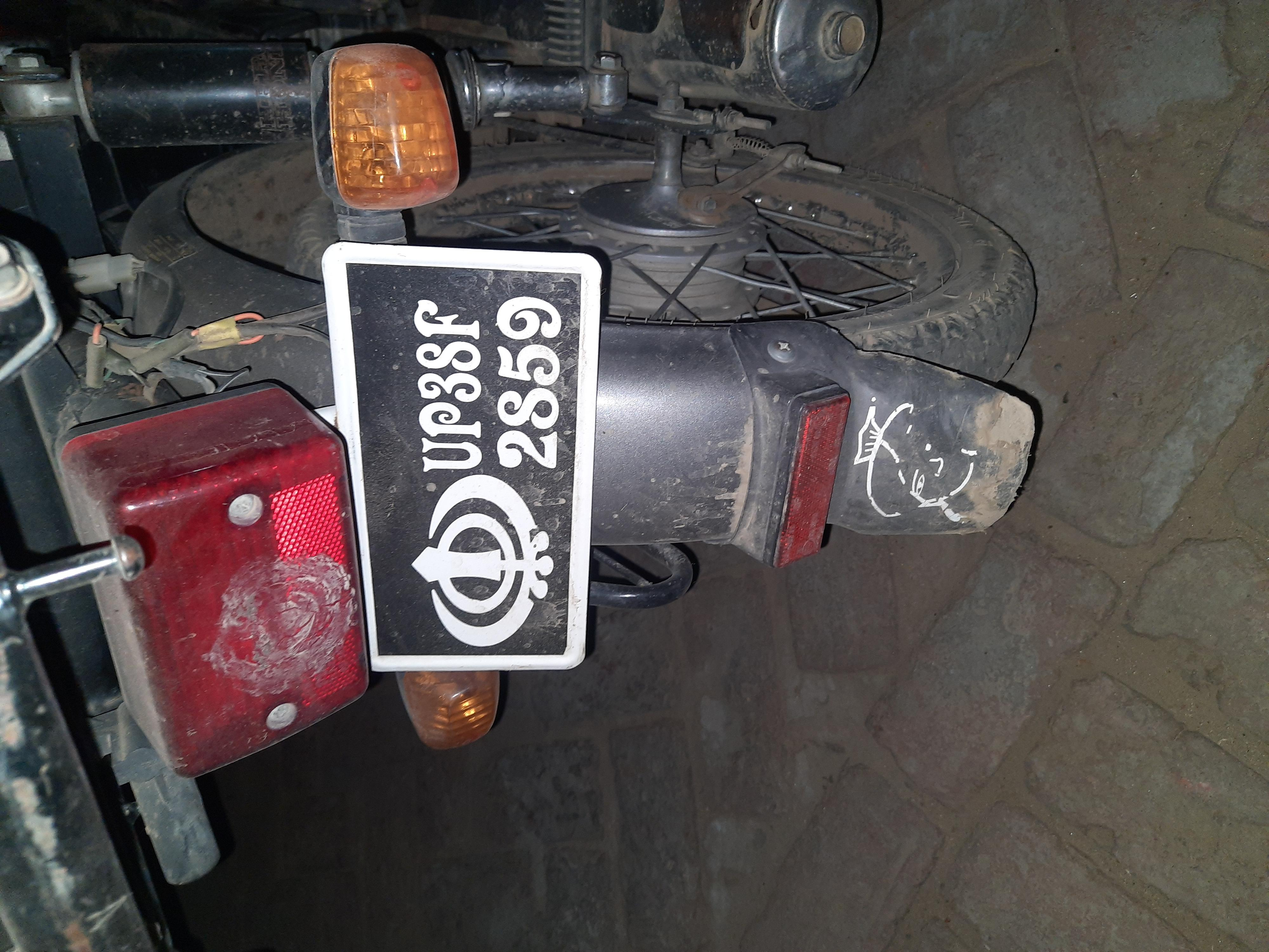number_platerotation: (367, 238, 951, 455)
